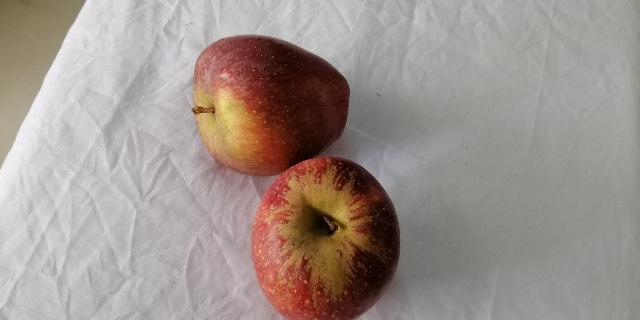apple_kashmir: (250, 157, 400, 320), (186, 34, 351, 174)
